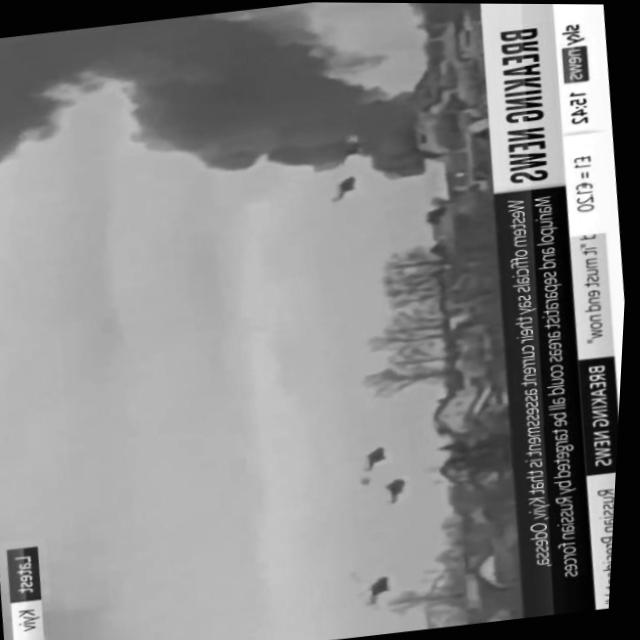helikopter: (344, 431, 431, 519), (339, 560, 419, 619), (314, 161, 384, 214)
